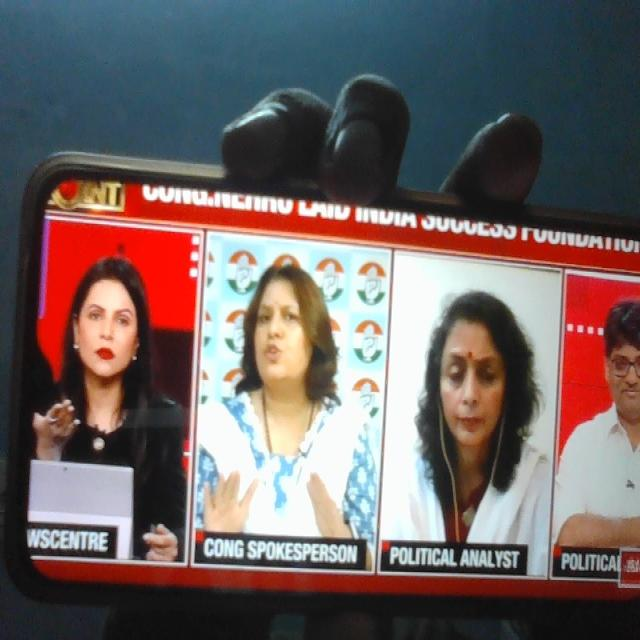fake: (413, 280, 524, 491)
